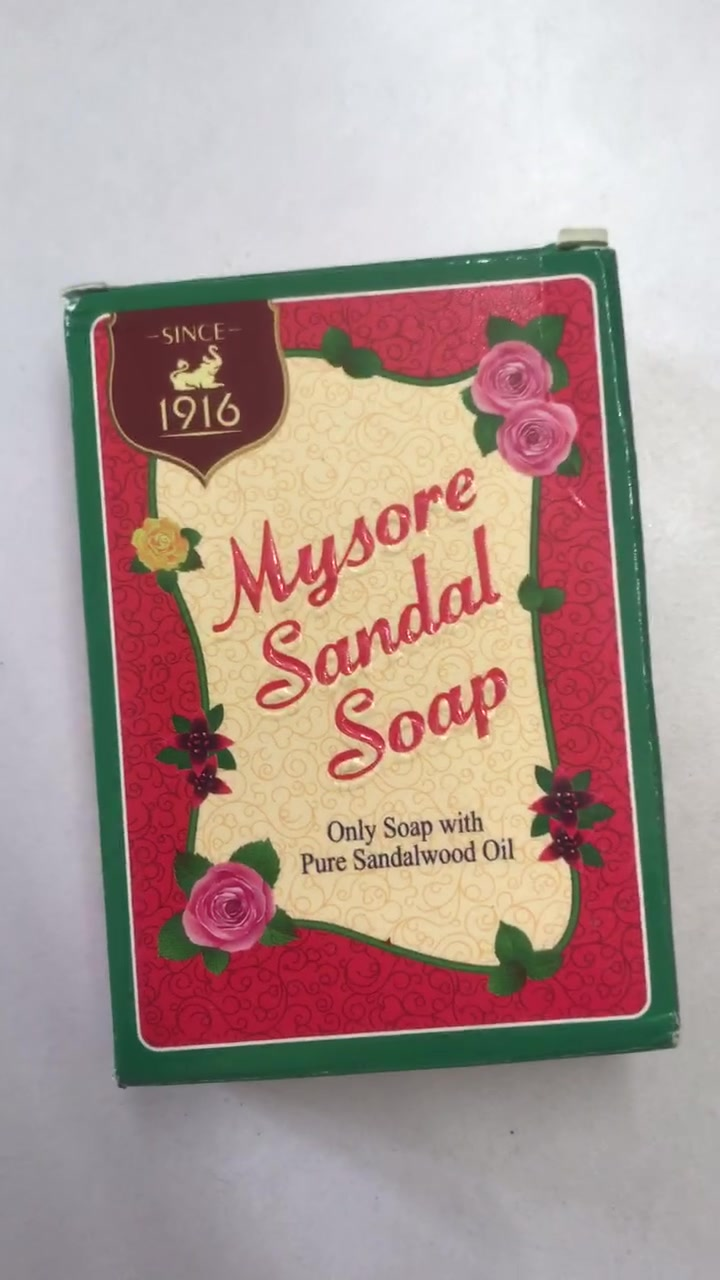mysore sandal soap: (64, 239, 673, 1085)
